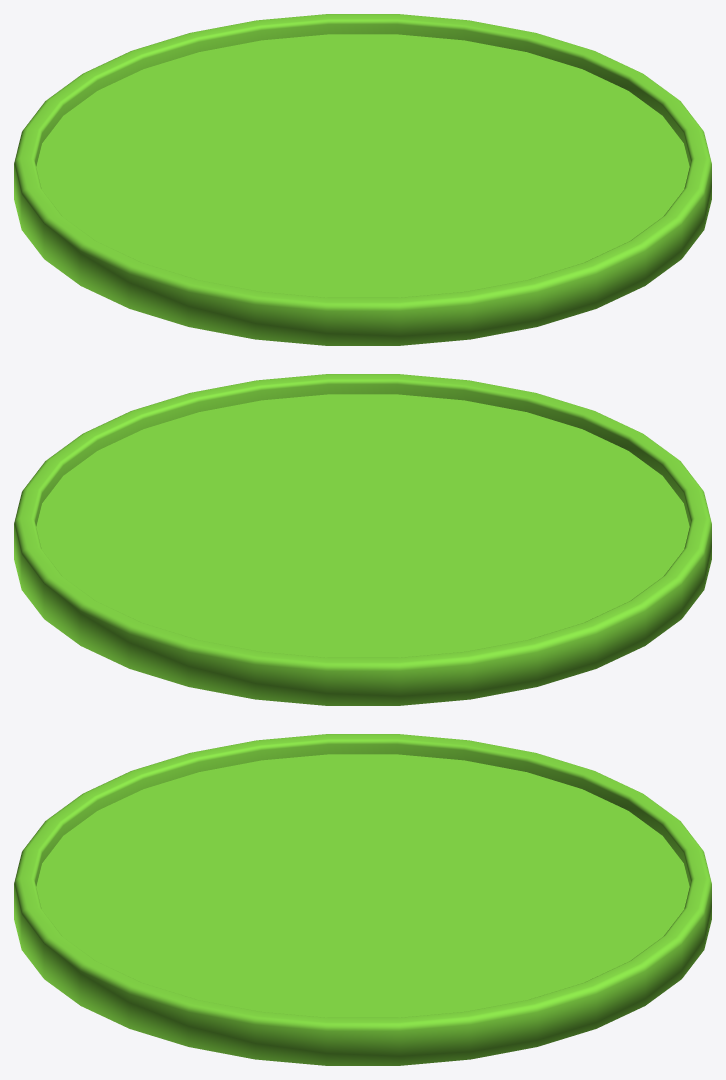
File: RuotaStagioni.fbx
The picture shows the model from 3 angles, top to bottom: view 1: azimuth 30°, elevation 25°; view 2: azimuth 150°, elevation 25°; view 3: azimuth 270°, elevation 25°; orthographic projection.
Parts seen in each view (by area): view 1: Cylinder.001; view 2: Cylinder.001; view 3: Cylinder.001.
Boxes of the visible parts, <box> form: Cylinder.001: <box>14,14,711,345</box>; Cylinder.001: <box>14,374,711,705</box>; Cylinder.001: <box>14,734,711,1065</box>.
Size of the model in its own units: 370 by 23.96 by 372.
